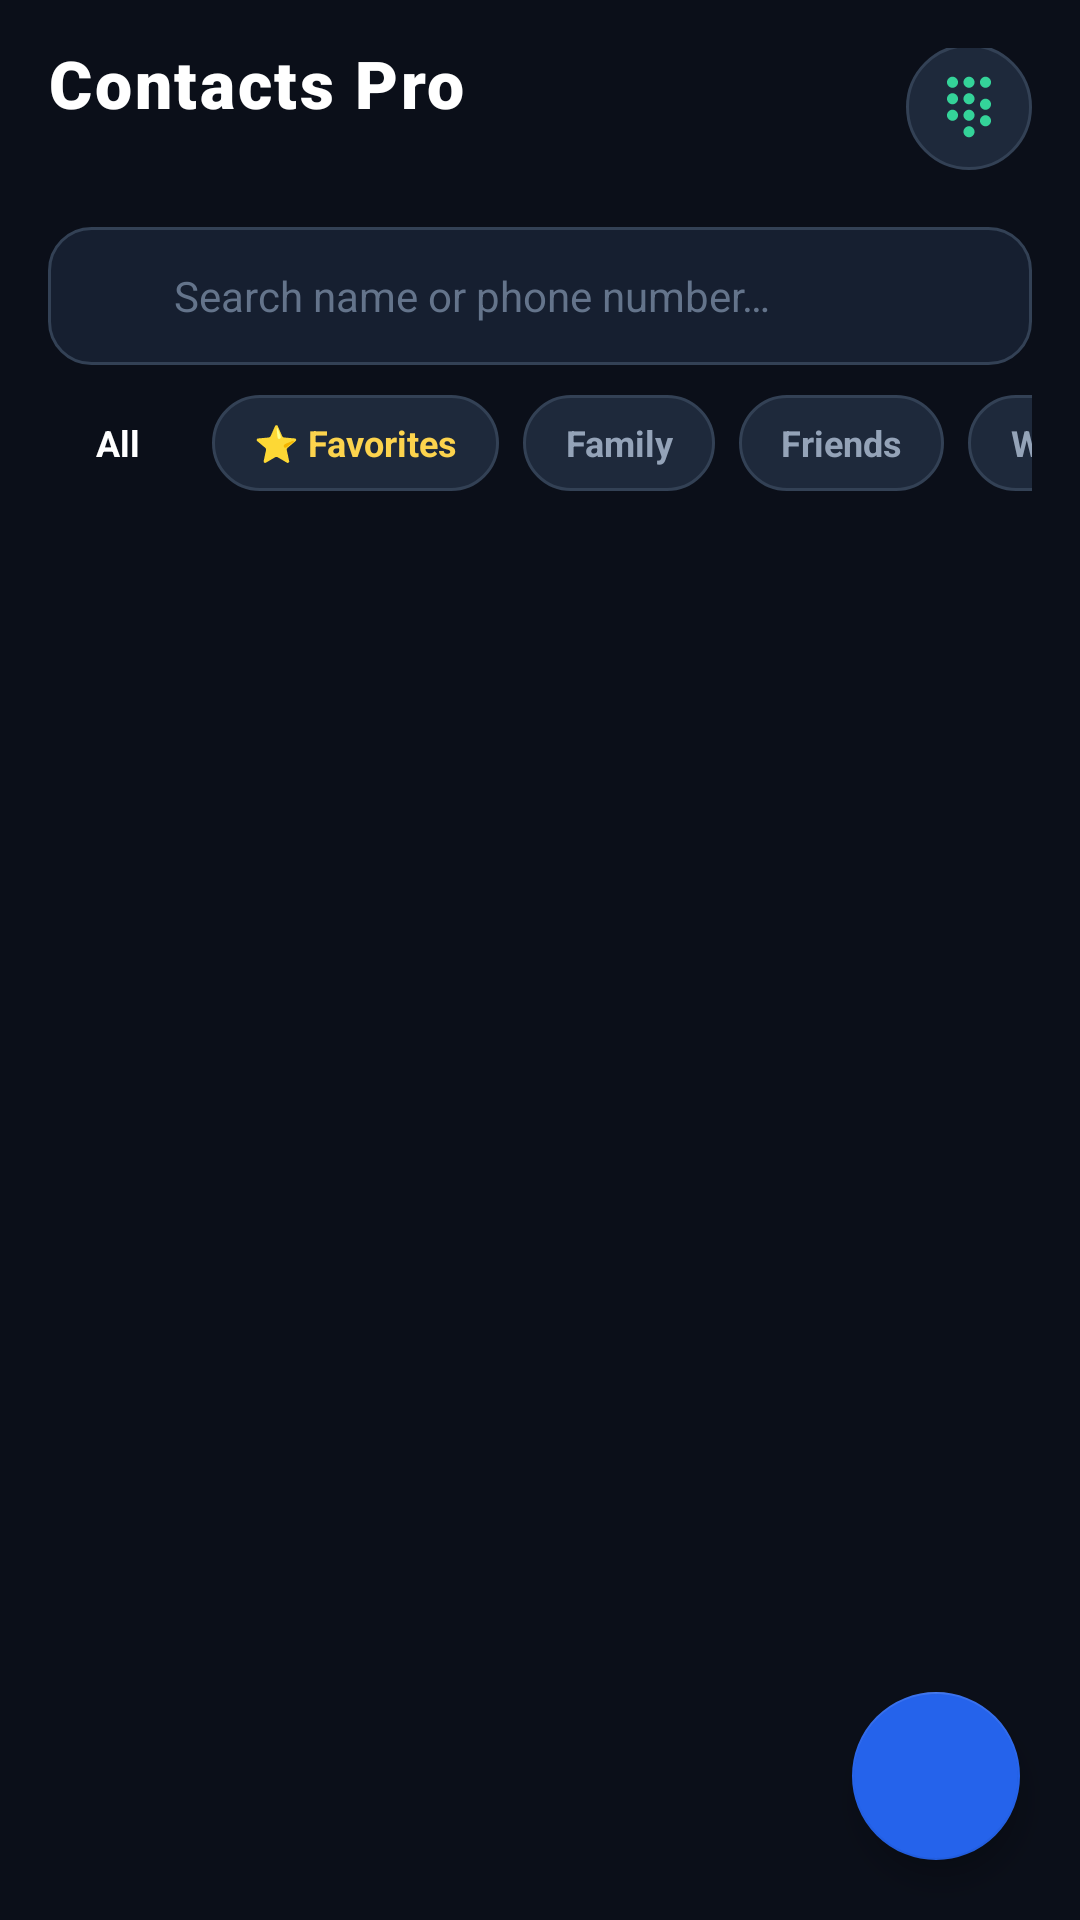

Where icons sit on this 1080w x 1920h app screen, as (x1, y1, x2, y2):
Open Quick Dial Pad: (906, 48, 1032, 170)
